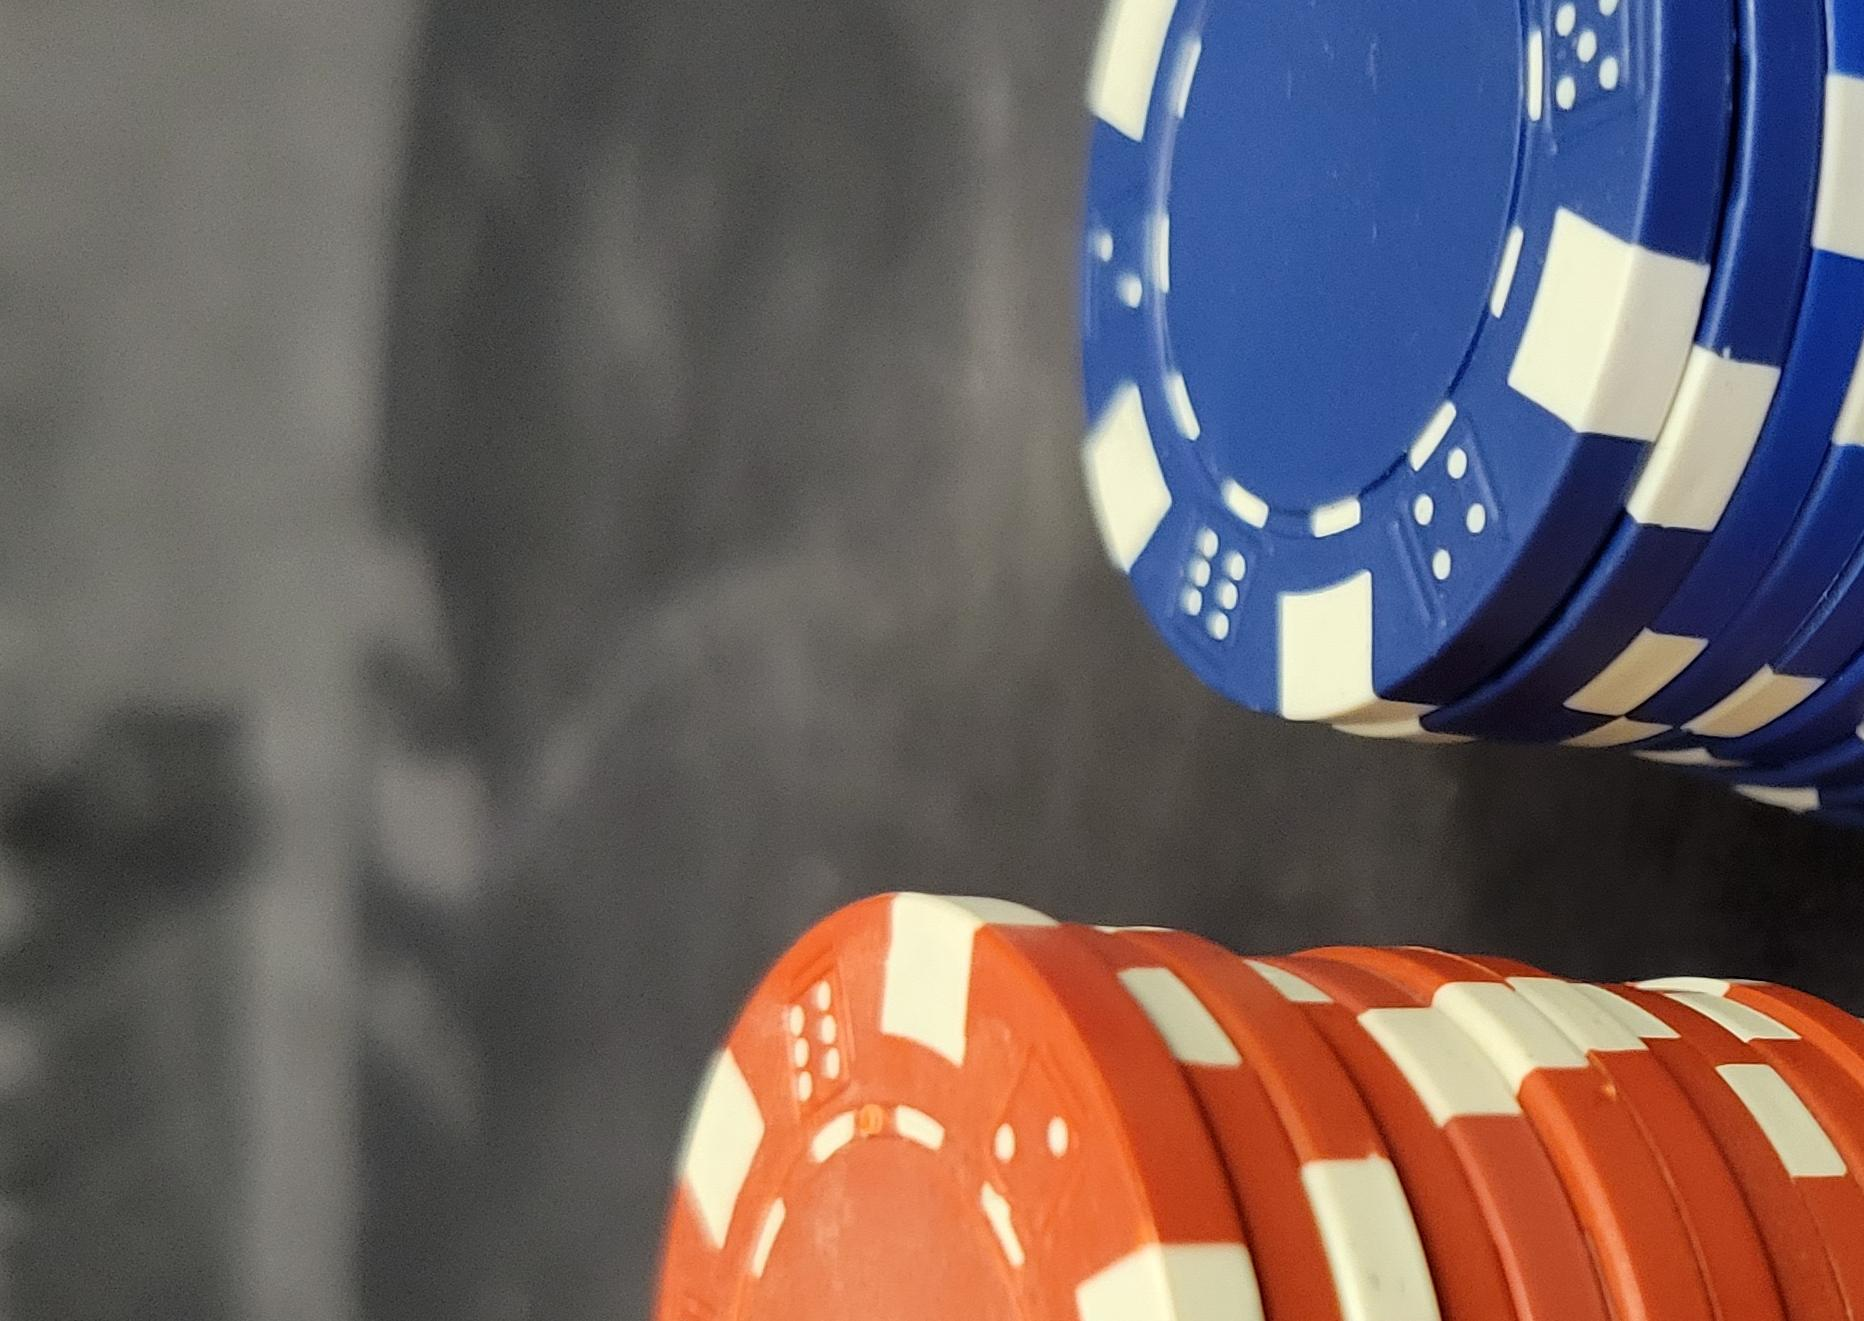Chip: (1, 200, 1347, 1321)
